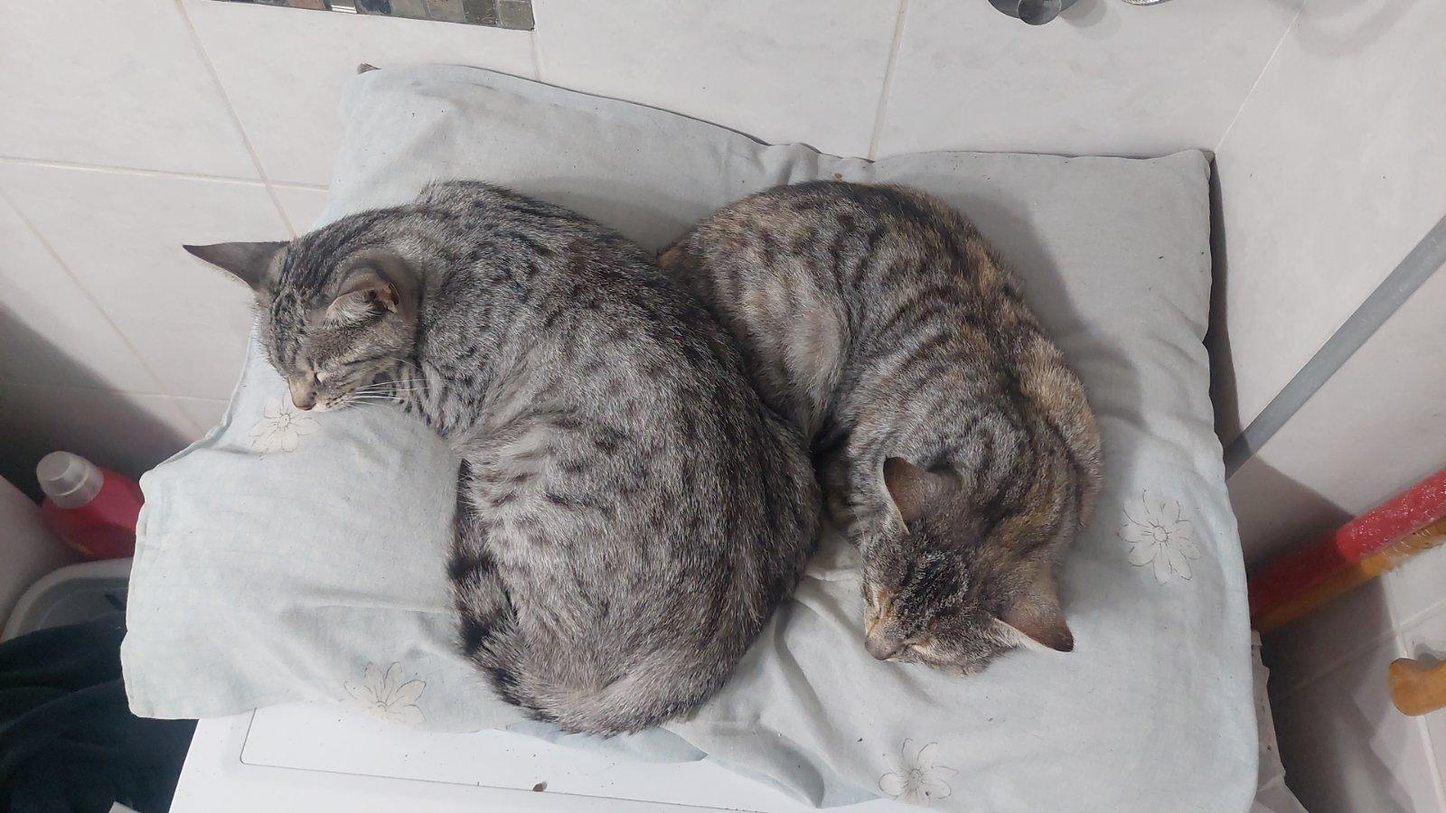macka: (184, 179, 819, 736), (651, 181, 1100, 672)
